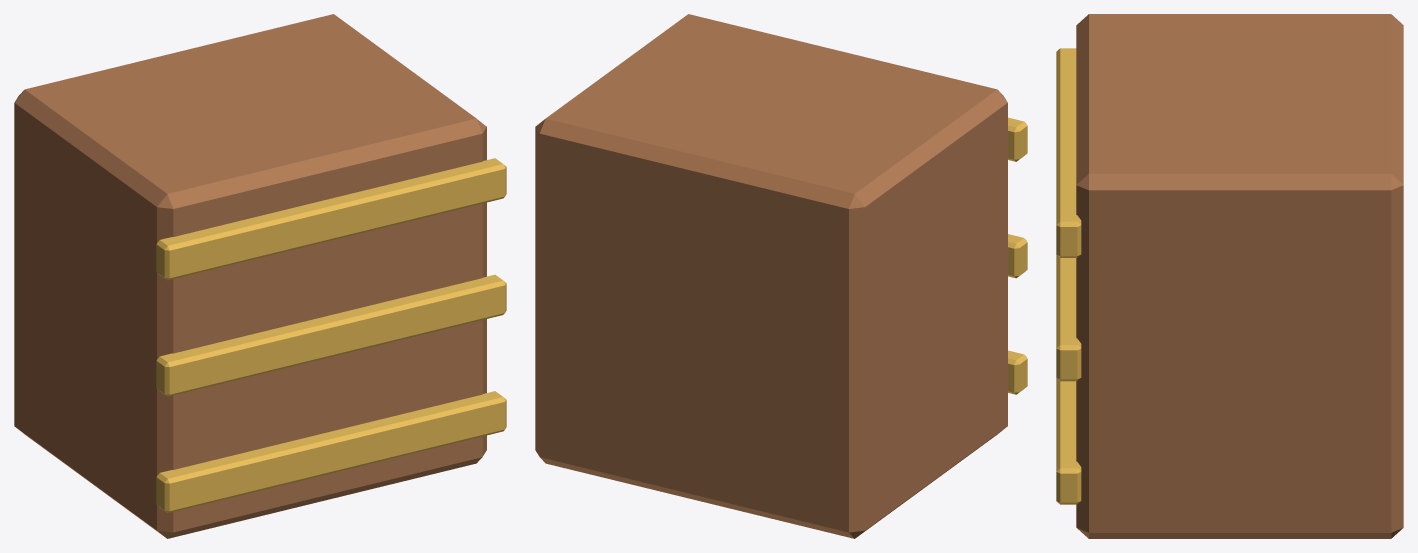
File: Prop_StorageCrate.fbx
3 views of the same model, side by side, from view 1: azimuth 30°, elevation 25°; view 2: azimuth 150°, elevation 25°; view 3: azimuth 270°, elevation 25° (orthographic). The views are drawn at different scales.
Parts seen in each view (by area): view 1: Crate, Slat.002, Slat, Slat.001; view 2: Crate, Slat, Slat.001, Slat.002; view 3: Crate, Slat.002, Slat.001, Slat.
Boxes of the visible parts, x1,y1,x2,y2 form: Crate: (14, 14, 486, 538); Slat.002: (156, 158, 506, 280); Slat: (156, 391, 506, 512); Slat.001: (156, 274, 506, 396); Crate: (535, 14, 1007, 538); Slat: (1008, 350, 1027, 394); Slat.001: (1008, 234, 1027, 278); Slat.002: (1008, 117, 1027, 161); Crate: (1076, 14, 1403, 538); Slat.002: (1056, 48, 1081, 257); Slat.001: (1056, 255, 1081, 381); Slat: (1056, 378, 1081, 504).
Size of the model in its own units: 0.83 by 0.8 by 0.69.
